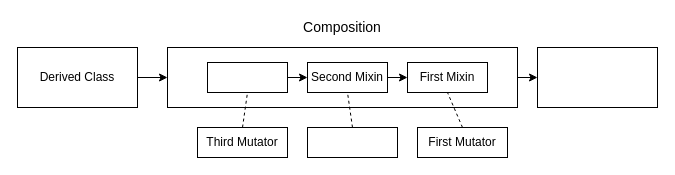
Some shapes in this 675 by 175 pixel diagram are drawn without their labels. Here are the shapes that lost their labels. From the top down, the centre of each, then its label:
At (x=247, y=77): "Third Mixin".
At (x=597, y=77): "Base Class".
At (x=352, y=142): "Second Mutator".
